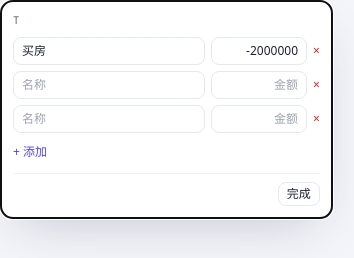
Test: ItemEditor › 点「×」删除按钮移除一行
Click the button named "删除该行".
click(316, 51)  # box [313, 42, 320, 60]
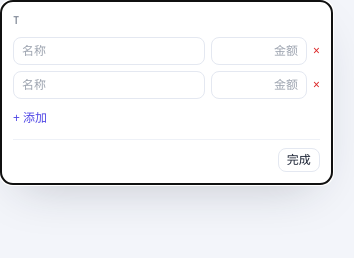
Check: the number of buttons named "删除该行" is 2, box [313, 42, 320, 60]; [313, 76, 320, 94]
